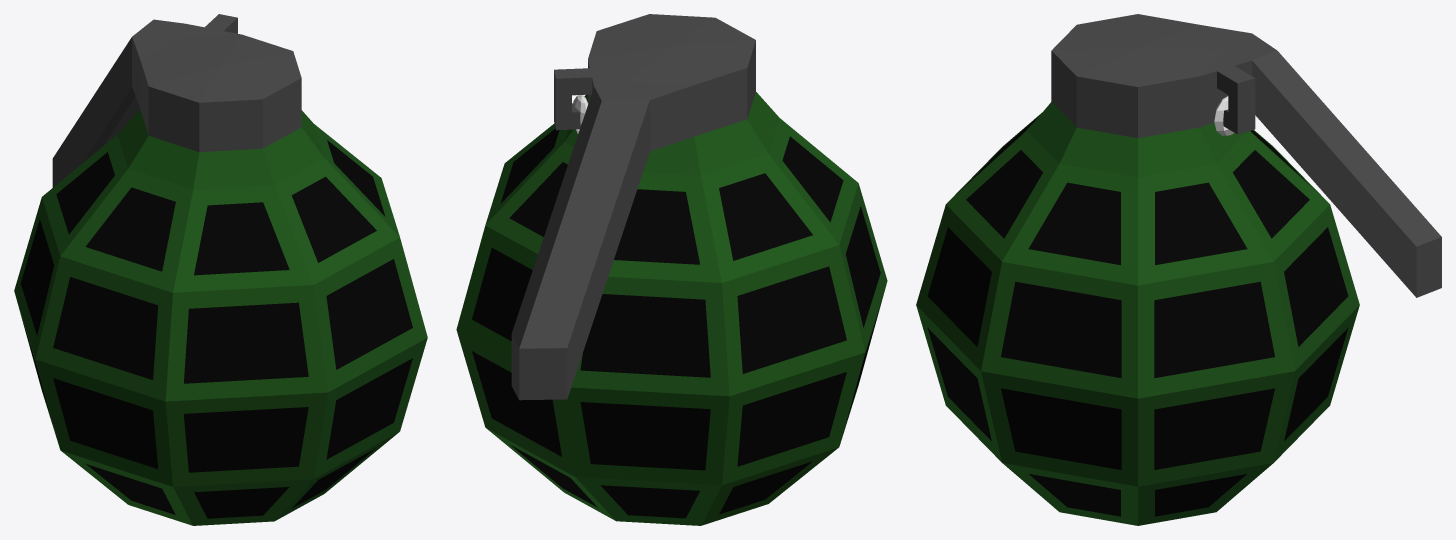
The model's file is sleepnade.fbx.
The picture shows the model from 3 angles, left to right: view 1: azimuth 30°, elevation 25°; view 2: azimuth 150°, elevation 25°; view 3: azimuth 270°, elevation 25°; orthographic projection. The views are drawn at different scales.
Visible parts, largest first — view 1: Sphere; view 2: Sphere; view 3: Sphere.
Boxes of the visible parts, x1,y1,x2,y2 form: Sphere: (14, 14, 427, 525); Sphere: (456, 14, 887, 525); Sphere: (916, 14, 1441, 525).
Bounding box in the file's own units: 200 × 228 × 237.
